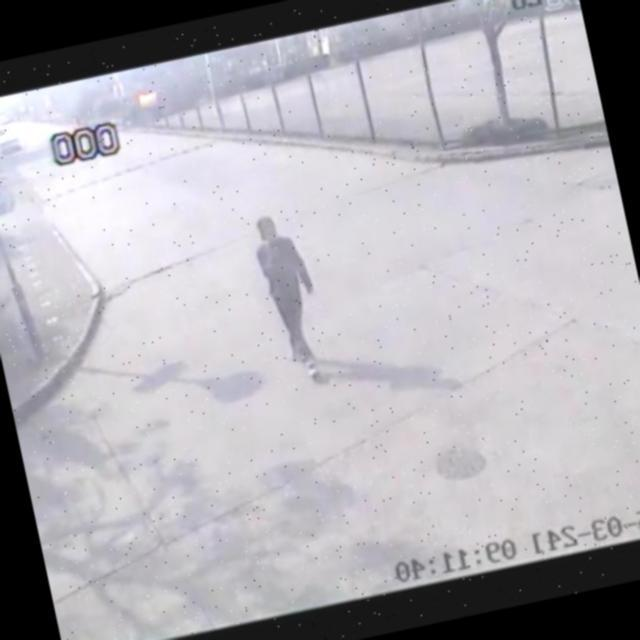person: (246, 206, 334, 389)
